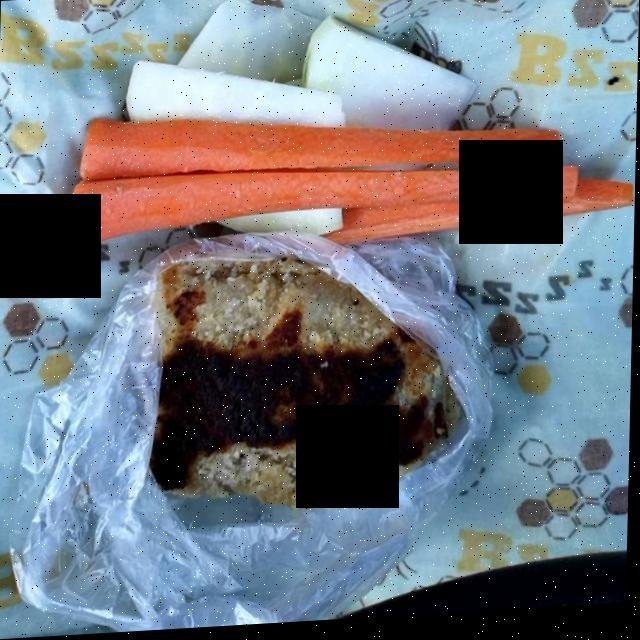carrot: (71, 111, 624, 255)
kolhrabi: (116, 20, 482, 240)
pork-schnitzel-fried: (157, 265, 462, 505)
